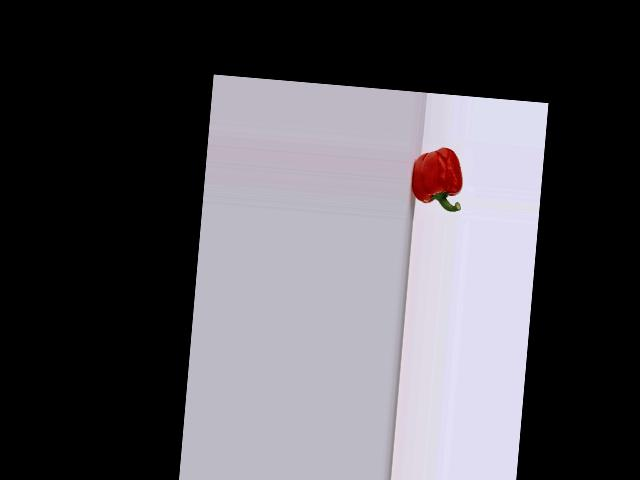bell_pepper: (407, 141, 468, 218)
